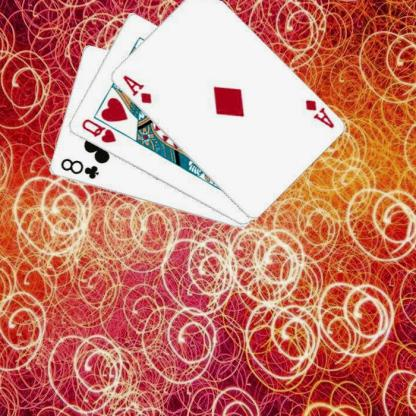8C: (58, 156, 100, 180)
AD: (119, 72, 153, 105), (302, 97, 335, 129)
QH: (79, 116, 117, 144)
